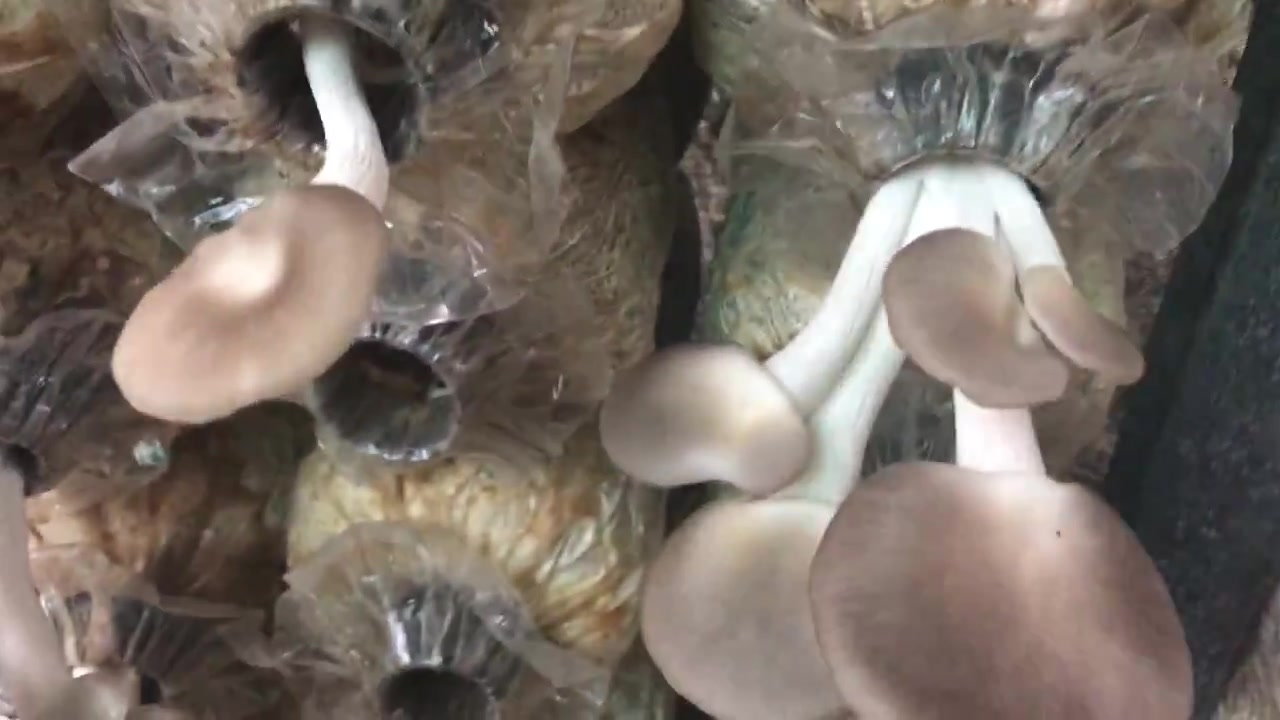nam: (601, 74, 1191, 720), (110, 1, 478, 431)
